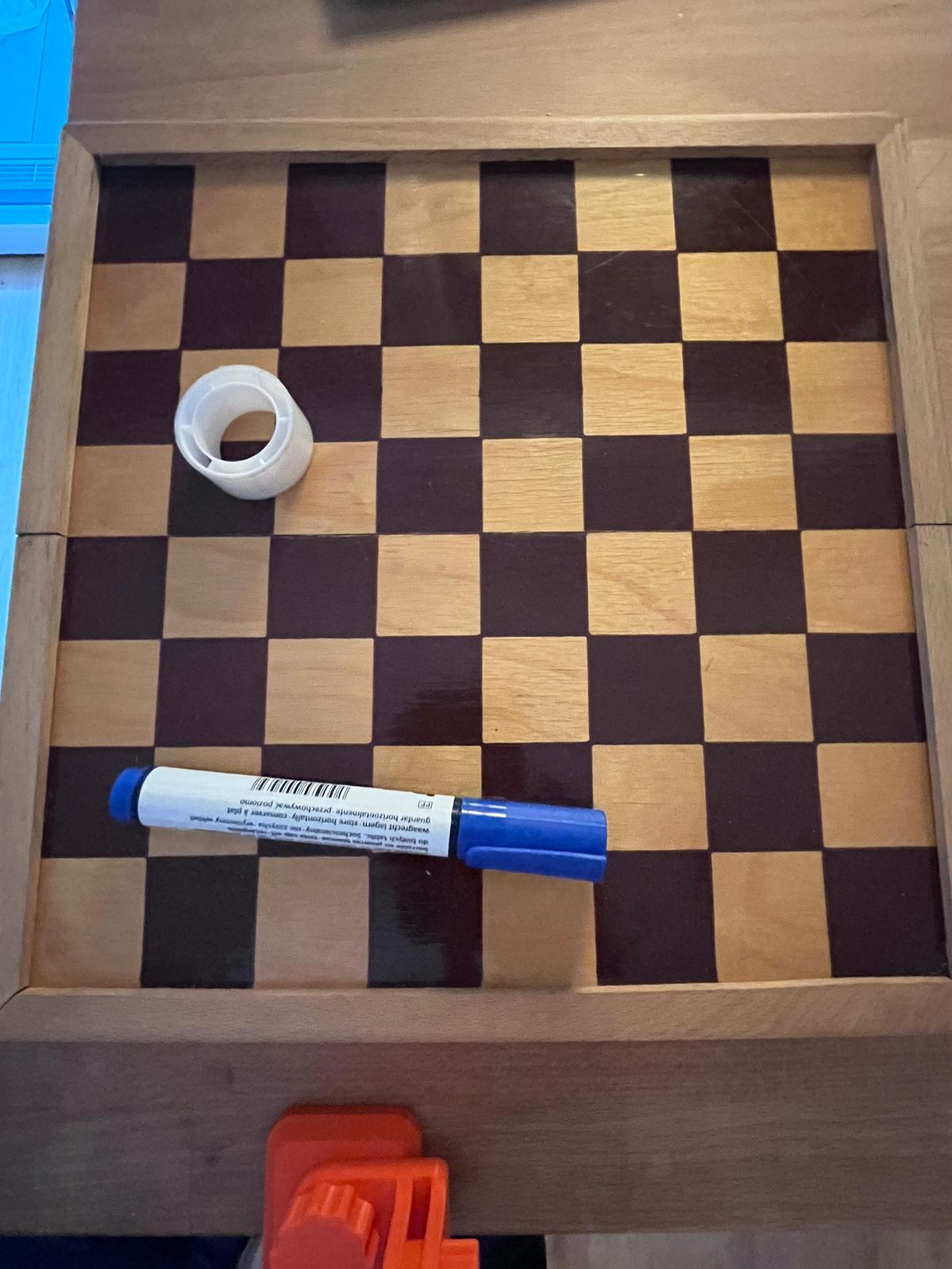marker: (113, 755, 611, 880)
tape: (162, 363, 308, 492)
